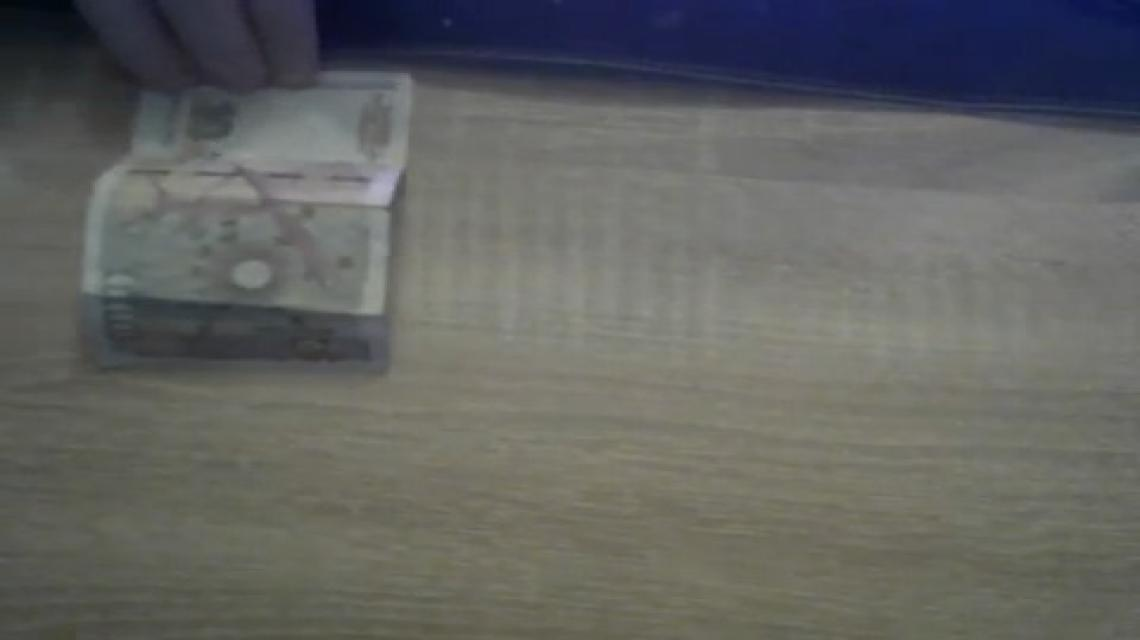10leva: (81, 71, 416, 372)
